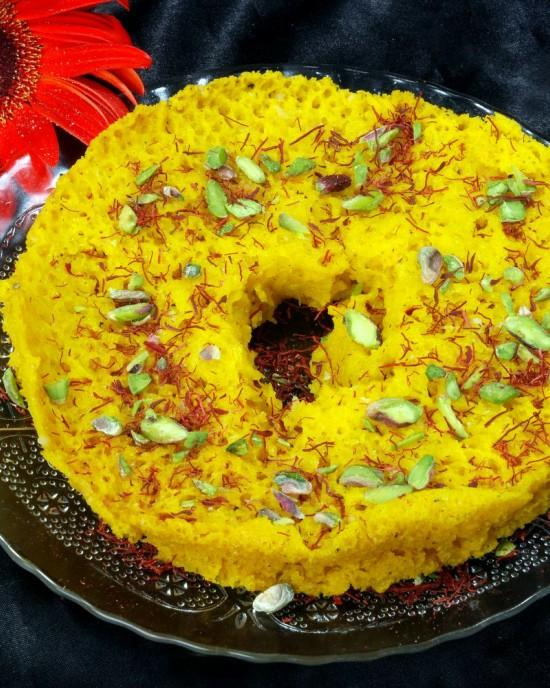Ghevar: (1, 68, 550, 598)
